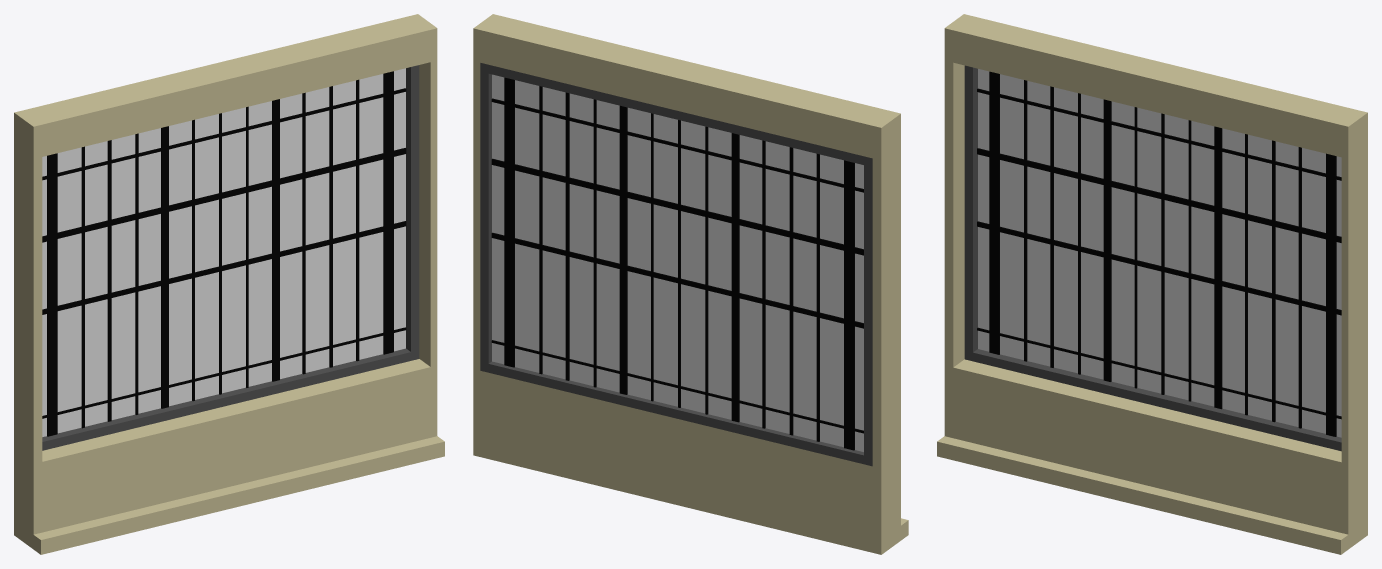
File: WindowWall.fbx
3 views of the same model, side by side, from view 1: azimuth 30°, elevation 25°; view 2: azimuth 150°, elevation 25°; view 3: azimuth 330°, elevation 25° (orthographic).
Visible parts, largest first — view 1: Window Wall; view 2: Window Wall; view 3: Window Wall.
Boxes of the visible parts, bbox=[...] form: Window Wall: bbox=[14, 14, 444, 554]; Window Wall: bbox=[473, 14, 908, 554]; Window Wall: bbox=[937, 14, 1367, 554].
Bounding box in the file's own units: 600 × 600 × 69.16.
